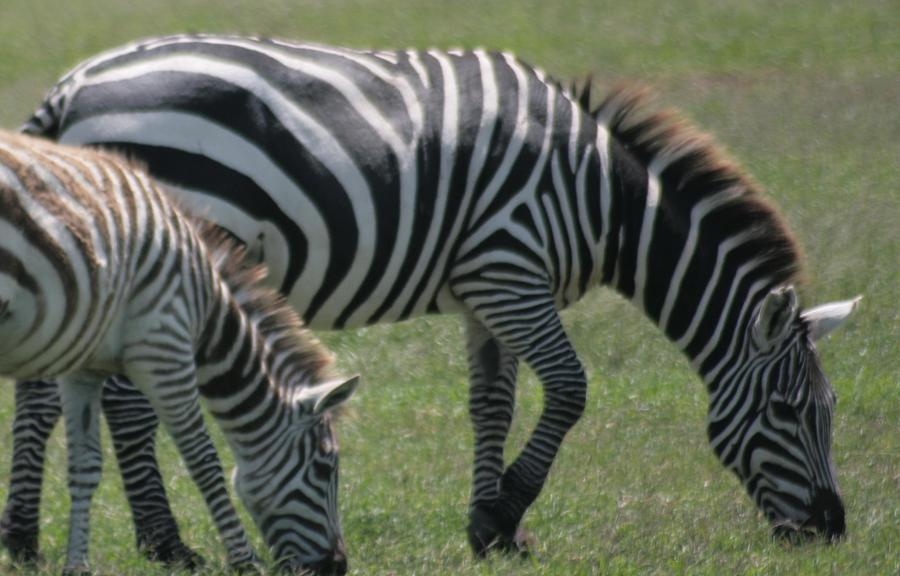zebra_plains: (212, 31, 576, 298)
